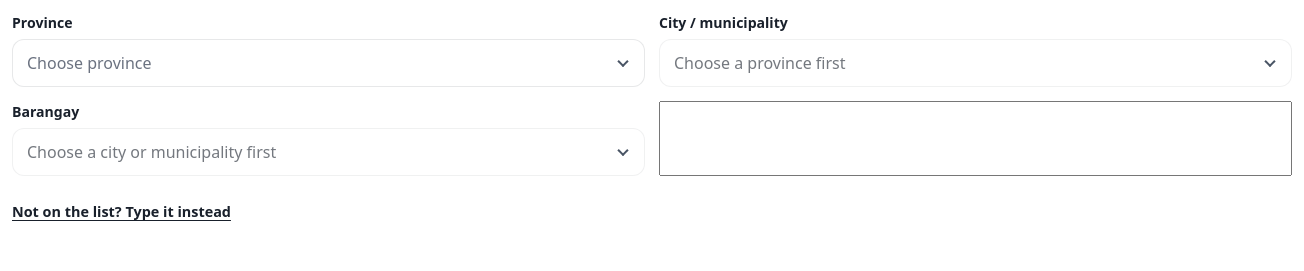
it: PlaceFields when the customer types › turns into text boxes when a list comes back empty
Step 1. Select "Cebu" in the dropdown labelled "Province" → x=328, y=63, box [12,39,645,87]
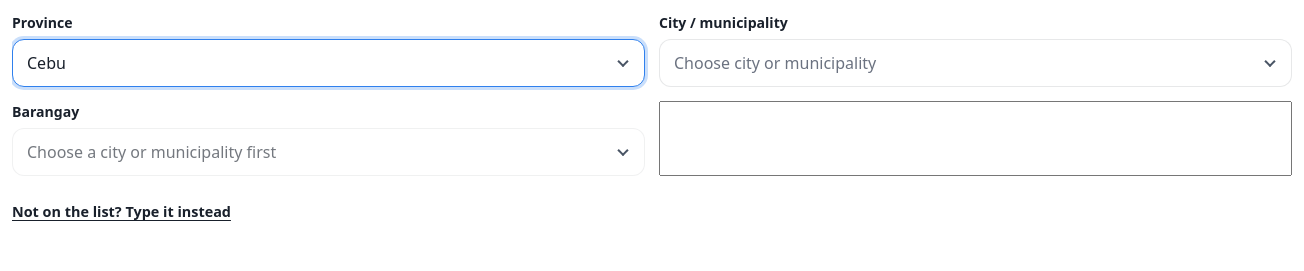
Step 2. Select "Cebu City" in the dropdown labelled "City / municipality" → x=976, y=63, box [659,39,1292,87]
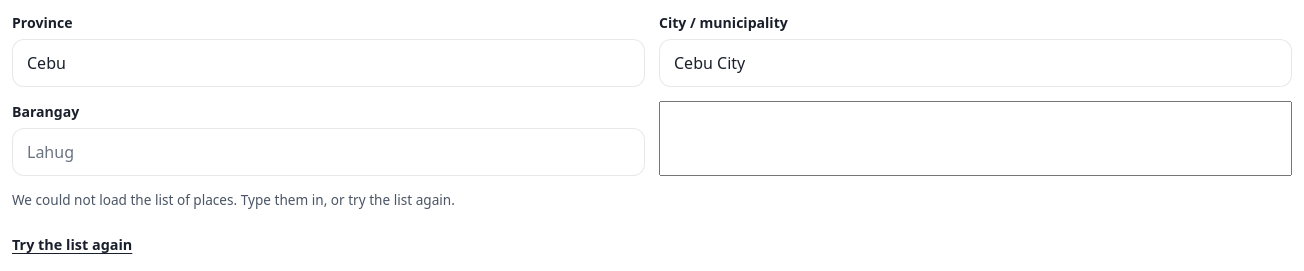
Now the text "We could not load the list of places. Type them in, or try the list again." is shown, box [12,190,455,209]
